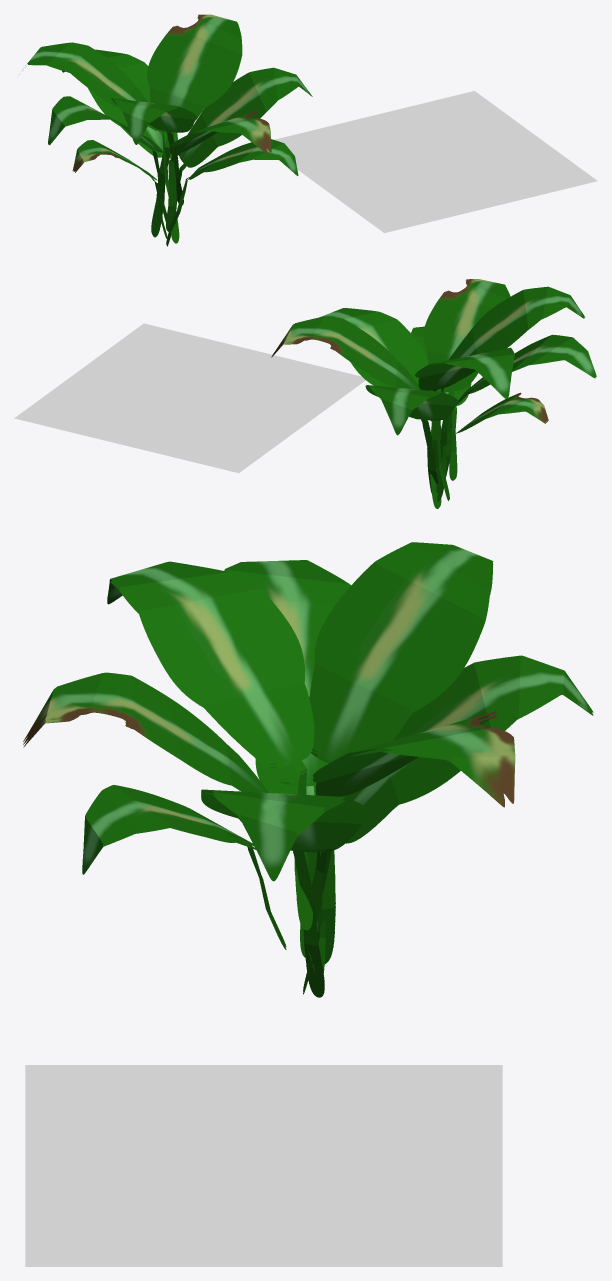
The model's file is Plant Texture low poly model fbx.fbx.
3 renders of one model, top to bottom at view 1: azimuth 30°, elevation 25°; view 2: azimuth 150°, elevation 25°; view 3: azimuth 270°, elevation 25°, orthographic. The views are drawn at different scales.
Visible parts, largest first — view 1: Whole leaf plane.046, Plane.002; view 2: Plane.002, Whole leaf plane.046; view 3: Whole leaf plane.046, Plane.002.
Boxes of the visible parts, x1,y1,x2,y2 form: Whole leaf plane.046: (22, 14, 312, 246); Plane.002: (274, 91, 597, 232); Plane.002: (14, 323, 365, 473); Whole leaf plane.046: (271, 279, 596, 508); Whole leaf plane.046: (23, 542, 593, 997); Plane.002: (25, 1065, 502, 1266).
Size of the model in its own units: 460 by 170 by 245.
